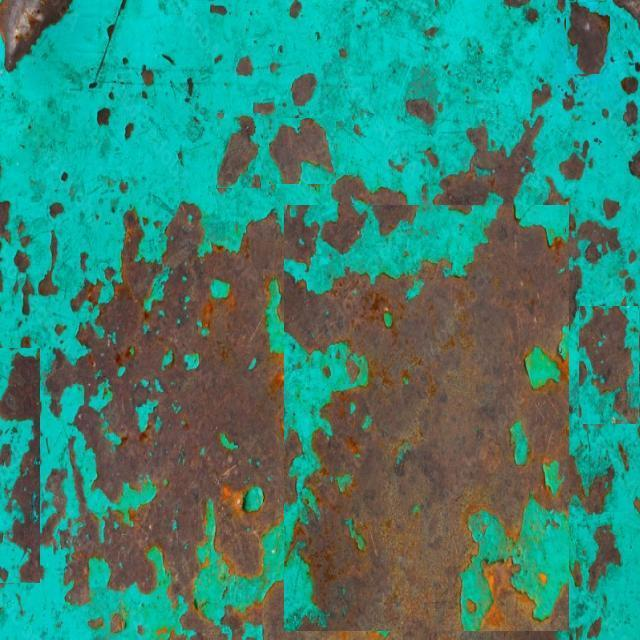Corrosion: (283, 116, 581, 640), (49, 204, 300, 640), (47, 205, 290, 606), (0, 355, 42, 582), (581, 307, 638, 422), (482, 561, 568, 632), (270, 118, 333, 184), (569, 2, 611, 74), (218, 116, 258, 190), (284, 205, 320, 264), (590, 526, 622, 592), (41, 470, 67, 546), (579, 221, 622, 264), (581, 468, 616, 514), (13, 250, 34, 314), (38, 231, 58, 296), (263, 584, 286, 640), (67, 437, 83, 506), (70, 281, 103, 312), (280, 632, 390, 640), (292, 73, 317, 106), (408, 98, 436, 124), (546, 176, 571, 204), (561, 153, 586, 180), (0, 201, 9, 240), (236, 56, 253, 75), (143, 64, 154, 85), (49, 202, 63, 218), (631, 152, 640, 176), (19, 236, 30, 248), (119, 181, 128, 192), (60, 171, 68, 182)
